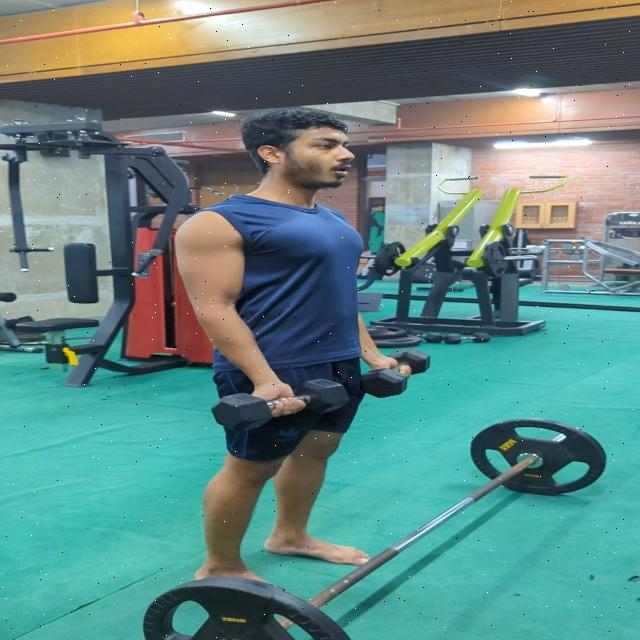Normal_DumbbellBicepCurls: (171, 107, 414, 585)
